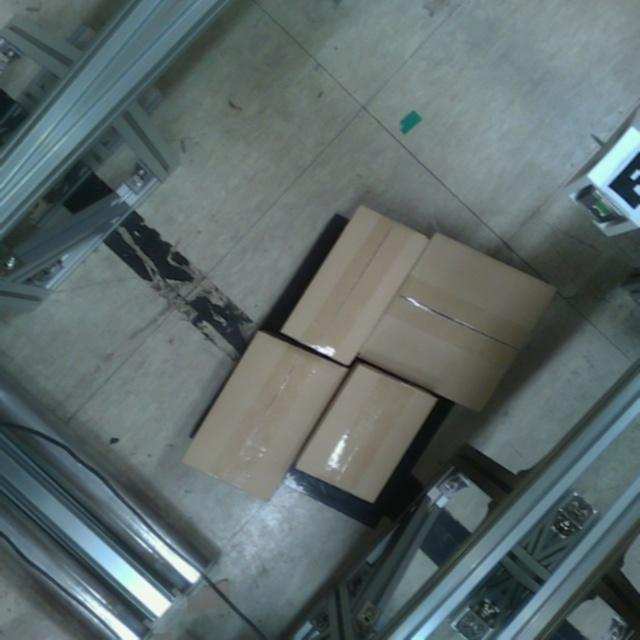box: (356, 227, 562, 419), (176, 332, 352, 512), (277, 204, 433, 374), (297, 356, 443, 504)
